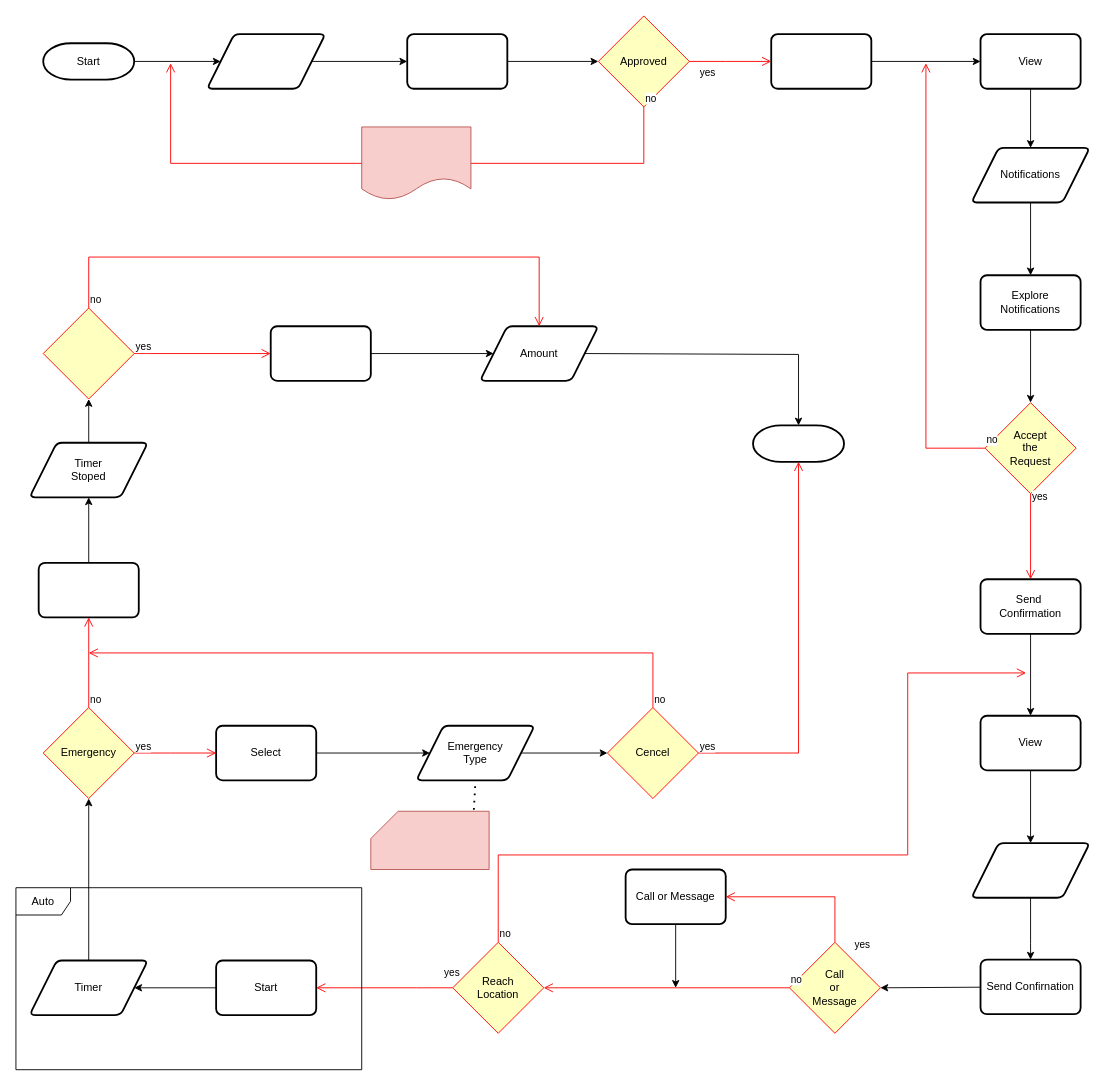
The diagram is 1107 pixels wide and 1086 high, and some of its shapes have lost their labels. Each missing label, with the centre of its shape:
Amount Per Time: point 88,353
Collect the Reqiured Docs: point 416,163
End: point 798,443
Enter Finished: point 88,589
Input: point 320,353
Login: point 821,61
Person's Location: point 1030,870
Police Fire Ambulance Guardian: point 429,840
Register Form: point 457,61
Submit: point 266,61
